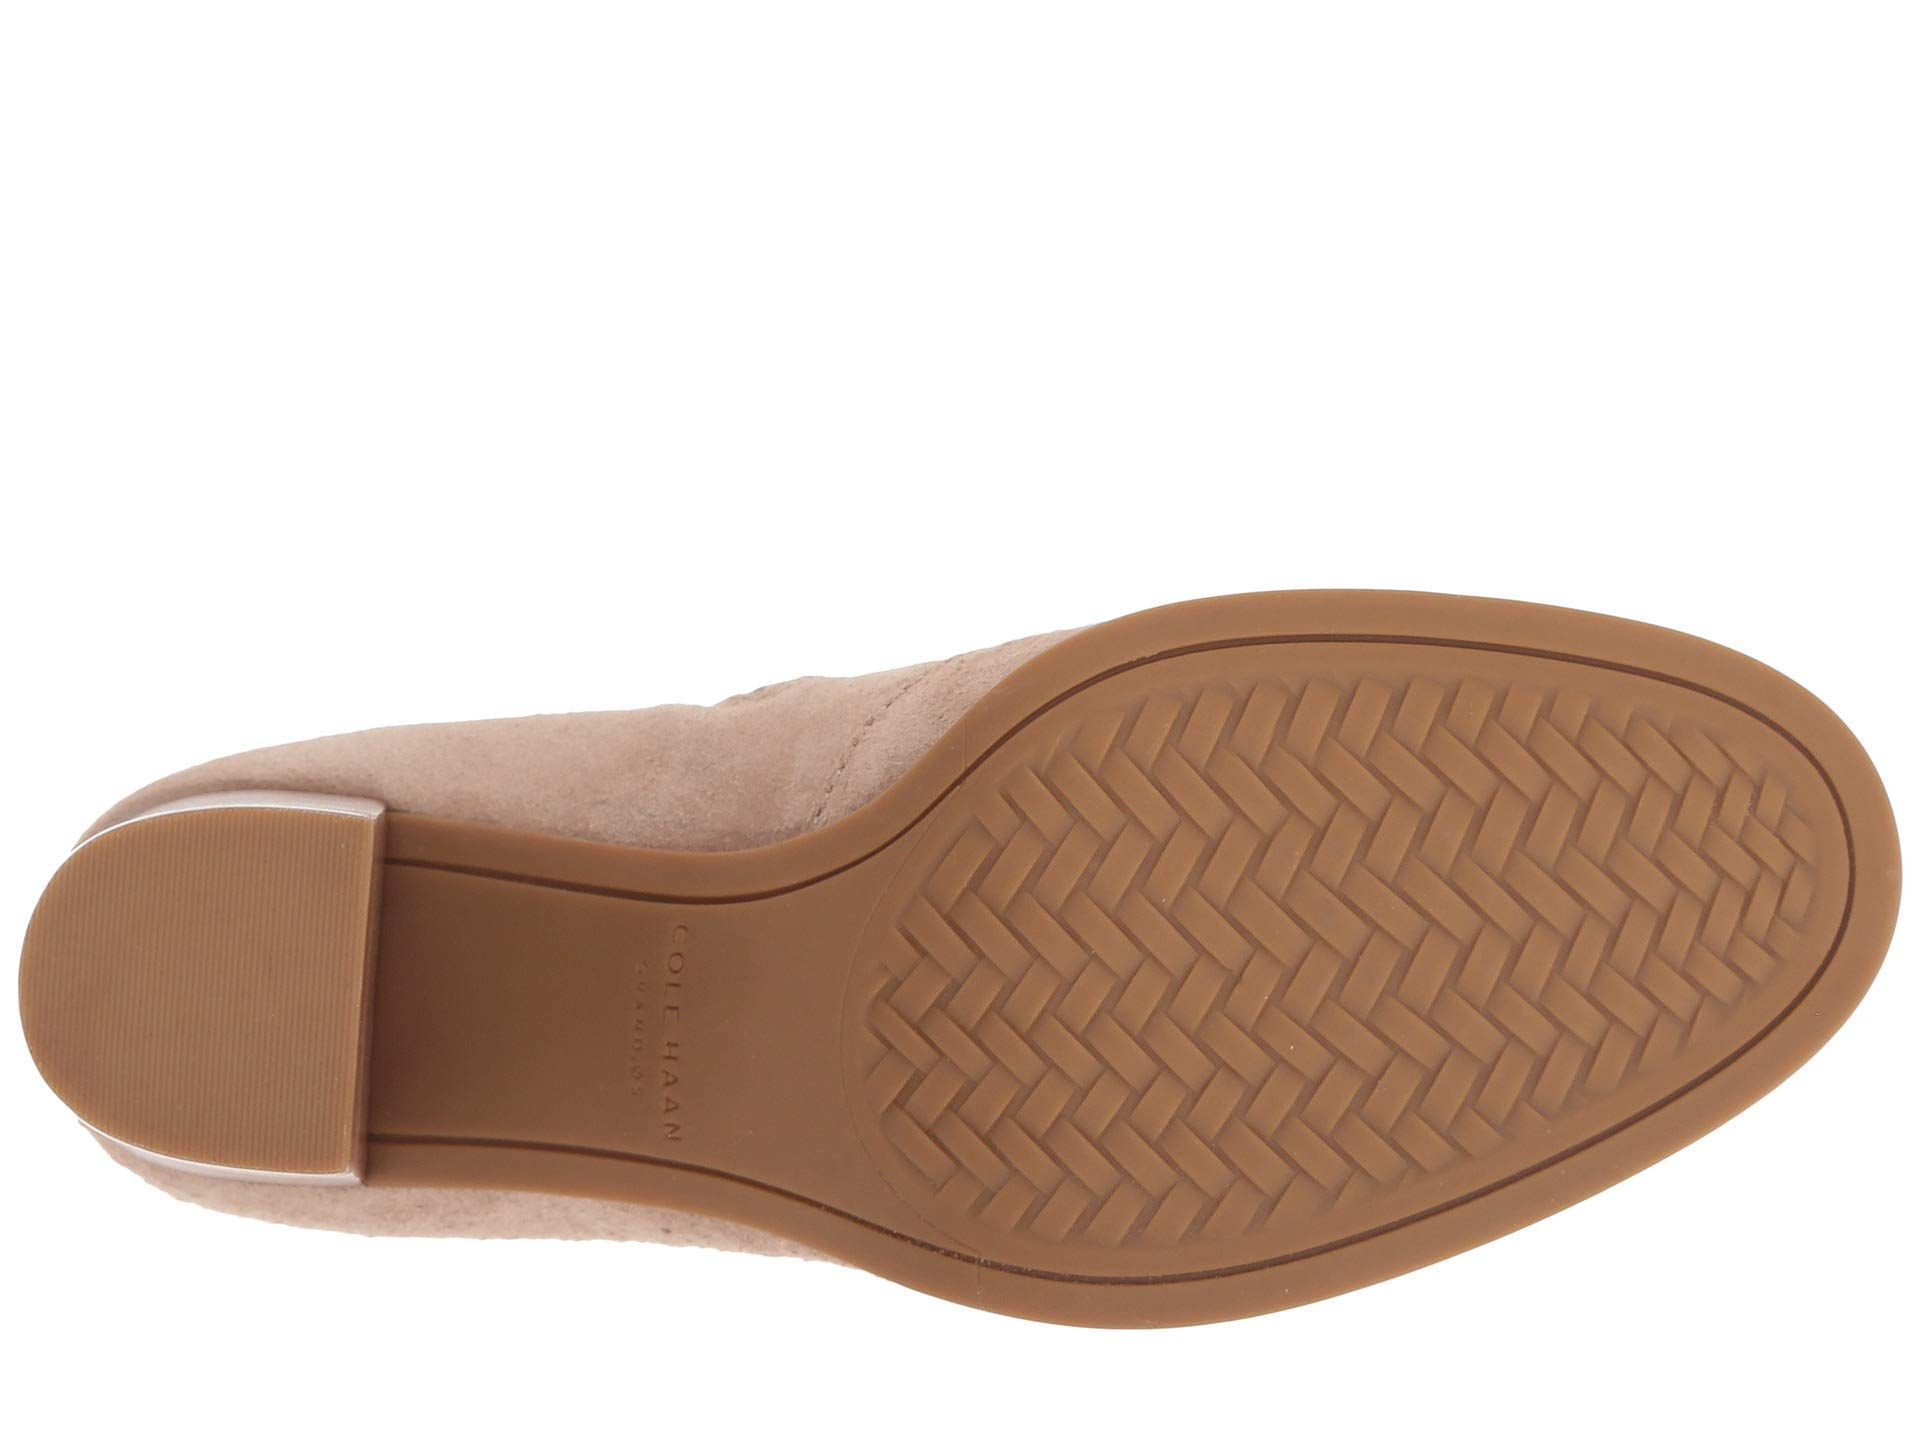quad: (1031, 728, 1627, 1137)
